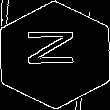N_E: (26, 35, 84, 75)
